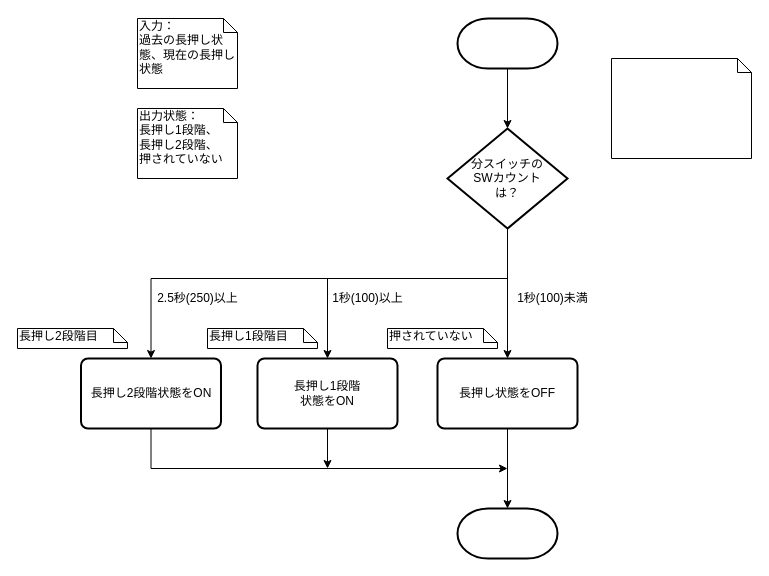
Some shapes in this 769 by 576 pixel diagram are drawn without their labels. The centre of each missing label's shape, as x and y in pixels:
"end" belongs at (x=507, y=533).
"分スイッチ用と 秒スイッチ用とで存在 どちらもほぼ同じ処理なため、片方の流れを省略" belongs at (x=681, y=108).
"分長押し検知" belongs at (x=507, y=43).
